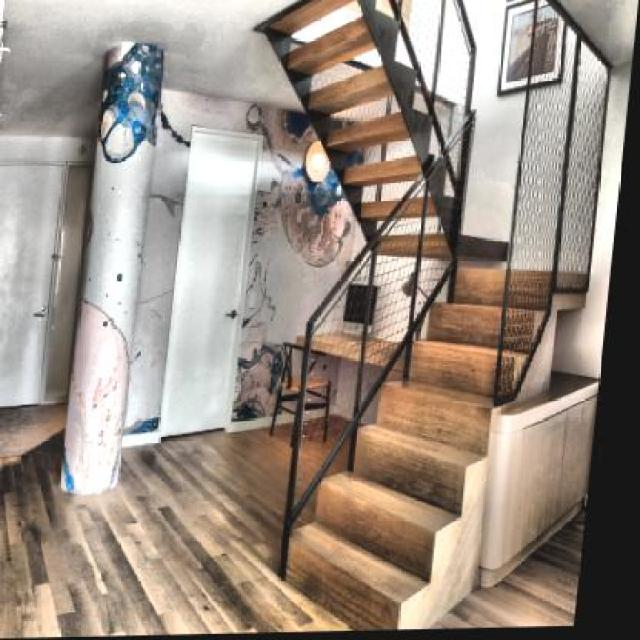stair: (322, 250, 536, 632)
